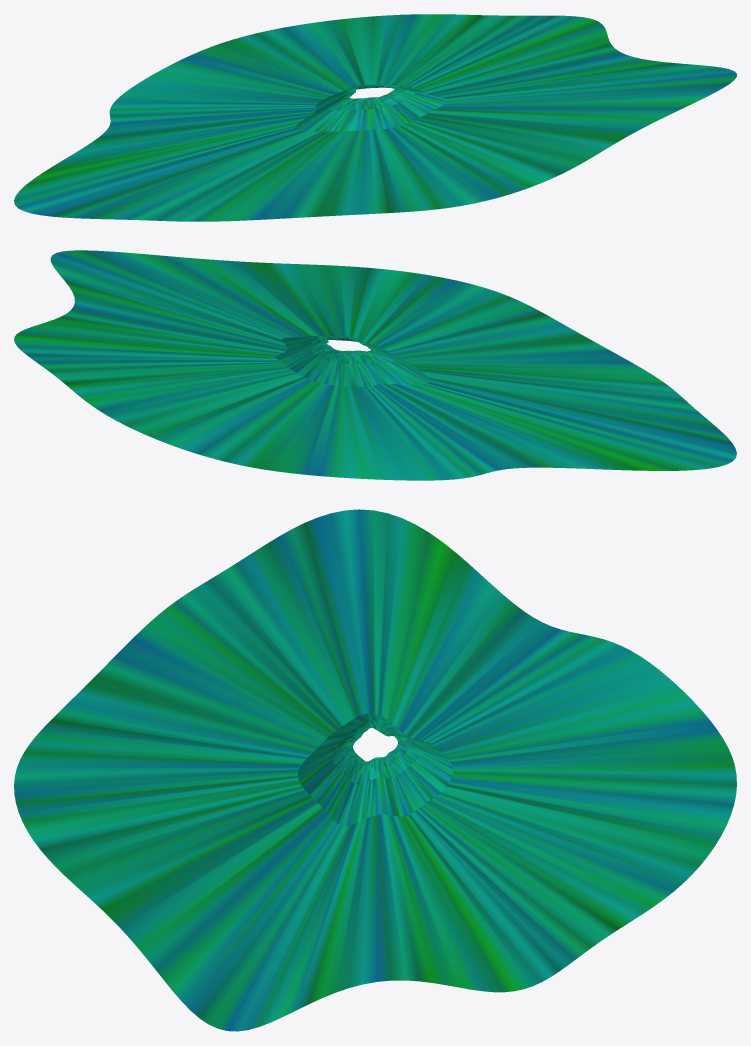
File: AsymmetricShelf_A.fbx
3 views of the same model, one above another, from view 1: azimuth 30°, elevation 25°; view 2: azimuth 150°, elevation 25°; view 3: azimuth 270°, elevation 25° (orthographic). The views are drawn at different scales.
Parts seen in each view (by area): view 1: AsymmetricShelf_A; view 2: AsymmetricShelf_A; view 3: AsymmetricShelf_A.
Boxes of the visible parts, <box> form: AsymmetricShelf_A: <box>14,14,736,221</box>; AsymmetricShelf_A: <box>14,250,736,480</box>; AsymmetricShelf_A: <box>14,509,736,1031</box>.
Bounding box in the file's own units: 116 × 4.4 × 68.04.
